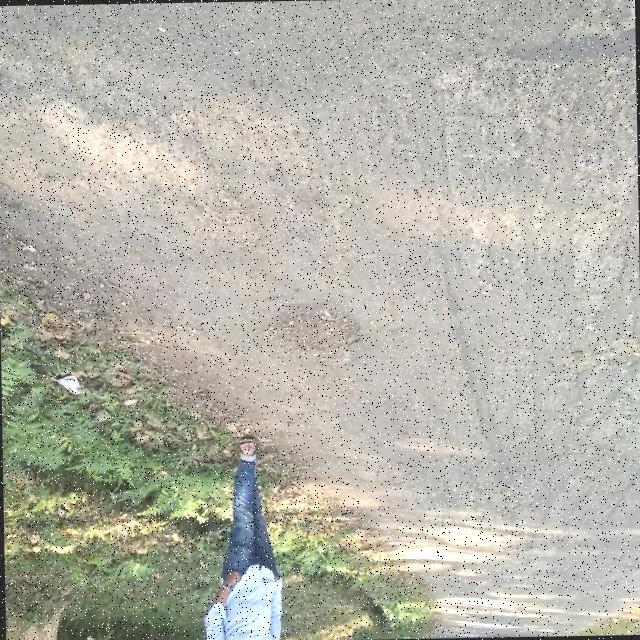Pothole: (281, 307, 360, 360)
